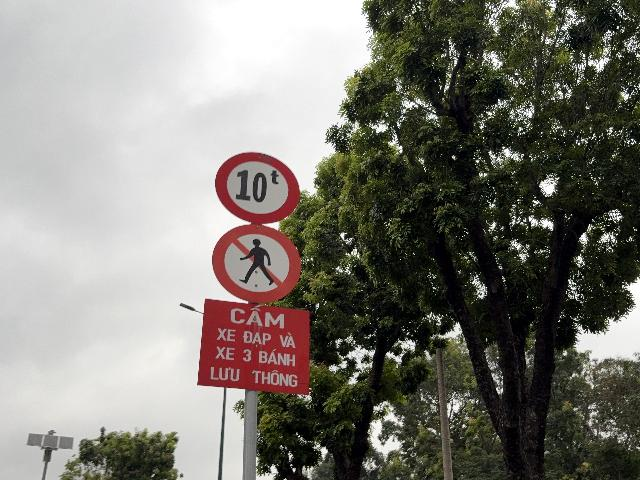cam-nguoi-di-bo: (212, 224, 301, 303)
han-che-trong-luong-xe: (215, 152, 300, 224)
